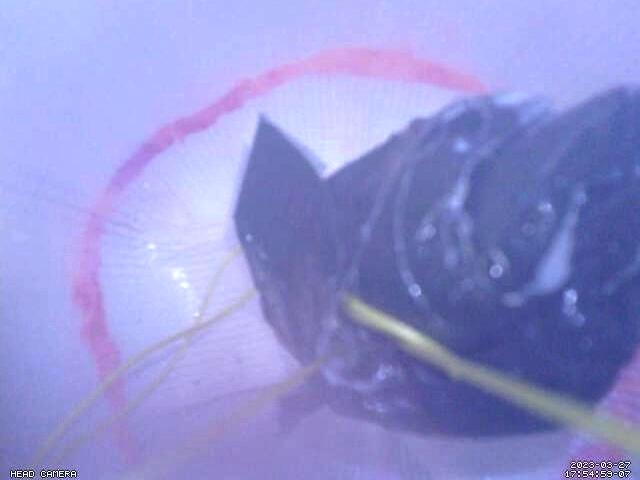head: (72, 45, 640, 480)
